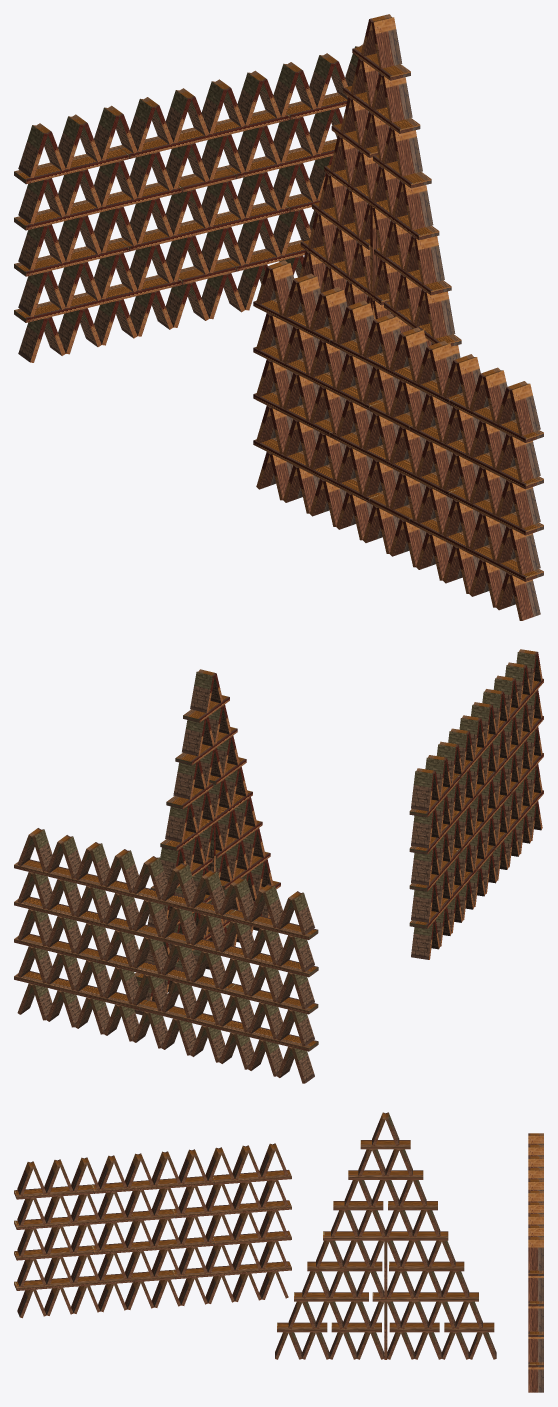
The model's file is Dynamic_1kg.fbx.
3 views of the same model, one above another, from view 1: azimuth 30°, elevation 25°; view 2: azimuth 150°, elevation 25°; view 3: azimuth 270°, elevation 25° (orthographic). The views are drawn at different scales.
Parts seen in each view (by area): view 1: D1DynamicBox176, D1DynamicBox111, D1DynamicBox159, D1DynamicBox74, D1DynamicBox222, D1DynamicBox253, D1DynamicBox215, D1DynamicBox265, D1DynamicBox183, D1DynamicBox86, D1DynamicBox248, D1DynamicBox311 (+44 smaller); view 2: D1DynamicBox111, D1DynamicBox176, D1DynamicBox159, D1DynamicBox74, D1DynamicBox67, D1DynamicBox171, D1DynamicBox86, D1DynamicBox183, D1DynamicBox170, D1DynamicBox68, D1DynamicBox58, D1DynamicBox234 (+21 smaller); view 3: D1DynamicBox58, D1DynamicBox311, D1DynamicBox248, D1DynamicBox215, D1DynamicBox265, D1DynamicBox222, D1DynamicBox253, D1DynamicBox15, D1DynamicBox40, D1DynamicBox63, D1DynamicBox241, D1DynamicBox203 (+18 smaller).
Part boxes in pixels (bbox=[...]): D1DynamicBox176: bbox=[14, 182, 182, 230]; D1DynamicBox111: bbox=[14, 275, 182, 322]; D1DynamicBox159: bbox=[117, 110, 289, 158]; D1DynamicBox74: bbox=[117, 202, 289, 251]; D1DynamicBox222: bbox=[409, 518, 543, 581]; D1DynamicBox253: bbox=[409, 425, 543, 489]; D1DynamicBox215: bbox=[330, 431, 463, 496]; D1DynamicBox265: bbox=[330, 339, 463, 404]; D1DynamicBox183: bbox=[14, 146, 128, 184]; D1DynamicBox86: bbox=[14, 239, 128, 276]; D1DynamicBox248: bbox=[253, 345, 383, 410]; D1DynamicBox311: bbox=[253, 437, 383, 502]; D1DynamicBox111: bbox=[183, 1013, 318, 1051]; D1DynamicBox176: bbox=[183, 939, 318, 977]; D1DynamicBox159: bbox=[97, 880, 235, 919]; D1DynamicBox74: bbox=[97, 955, 234, 994]; D1DynamicBox67: bbox=[14, 971, 148, 1010]; D1DynamicBox171: bbox=[14, 896, 148, 935]; D1DynamicBox86: bbox=[226, 984, 318, 1014]; D1DynamicBox183: bbox=[226, 909, 318, 939]; D1DynamicBox170: bbox=[14, 859, 99, 888]; D1DynamicBox68: bbox=[14, 934, 99, 962]; D1DynamicBox58: bbox=[160, 790, 252, 850]; D1DynamicBox234: bbox=[411, 770, 434, 811]; D1DynamicBox58: bbox=[323, 1231, 448, 1240]; D1DynamicBox311: bbox=[172, 1261, 291, 1279]; D1DynamicBox248: bbox=[172, 1200, 291, 1218]; D1DynamicBox215: bbox=[91, 1237, 214, 1254]; D1DynamicBox265: bbox=[91, 1176, 214, 1193]; D1DynamicBox222: bbox=[14, 1273, 133, 1290]; D1DynamicBox253: bbox=[14, 1212, 133, 1229]; D1DynamicBox15: bbox=[372, 1292, 478, 1301]; D1DynamicBox40: bbox=[389, 1261, 464, 1271]; D1DynamicBox63: bbox=[307, 1261, 382, 1271]; D1DynamicBox241: bbox=[213, 1170, 291, 1184]; D1DynamicBox203: bbox=[213, 1230, 291, 1245].
Size of what is drawn, in the model's own units: 89.25 by 84.91 by 169.
